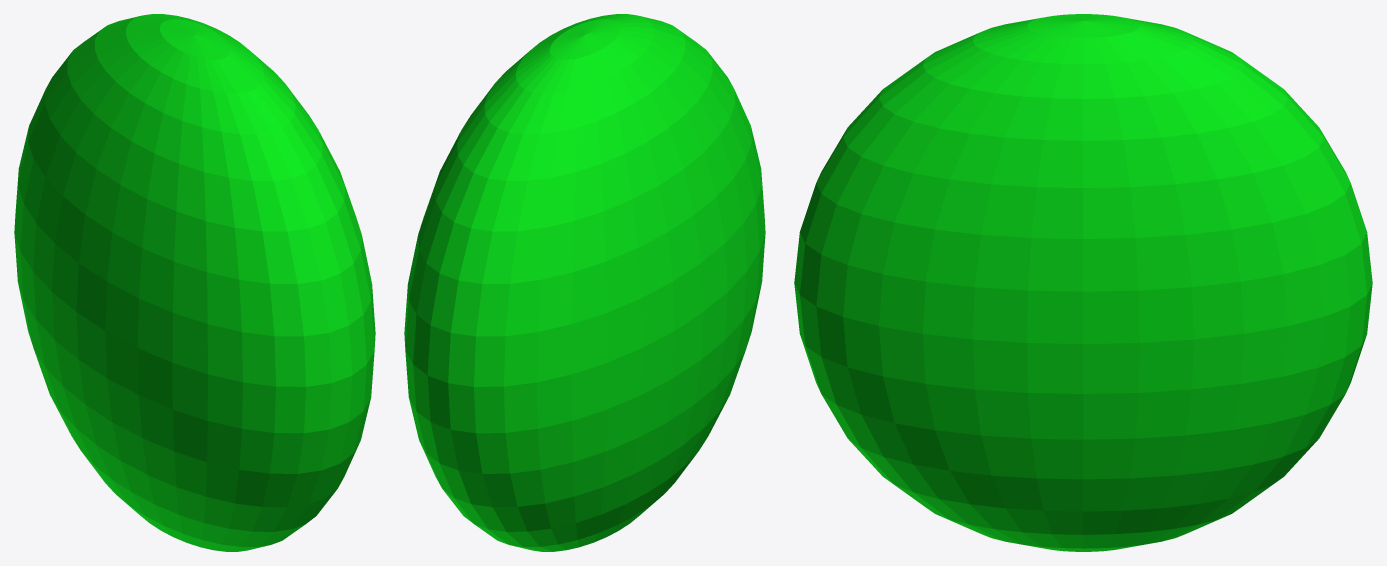
Rendered from bullethole.glb.
3 views of the same model, side by side, from view 1: azimuth 30°, elevation 25°; view 2: azimuth 150°, elevation 25°; view 3: azimuth 270°, elevation 25° (orthographic). The views are drawn at different scales.
Parts seen in each view (by area): view 1: Sphere; view 2: Sphere; view 3: Sphere.
Boxes of the visible parts, box(x1,y1,x2,y2) form: Sphere: box(14, 14, 375, 551); Sphere: box(404, 14, 765, 551); Sphere: box(794, 14, 1372, 551).
Bounding box in the file's own units: 1 × 2 × 2.
